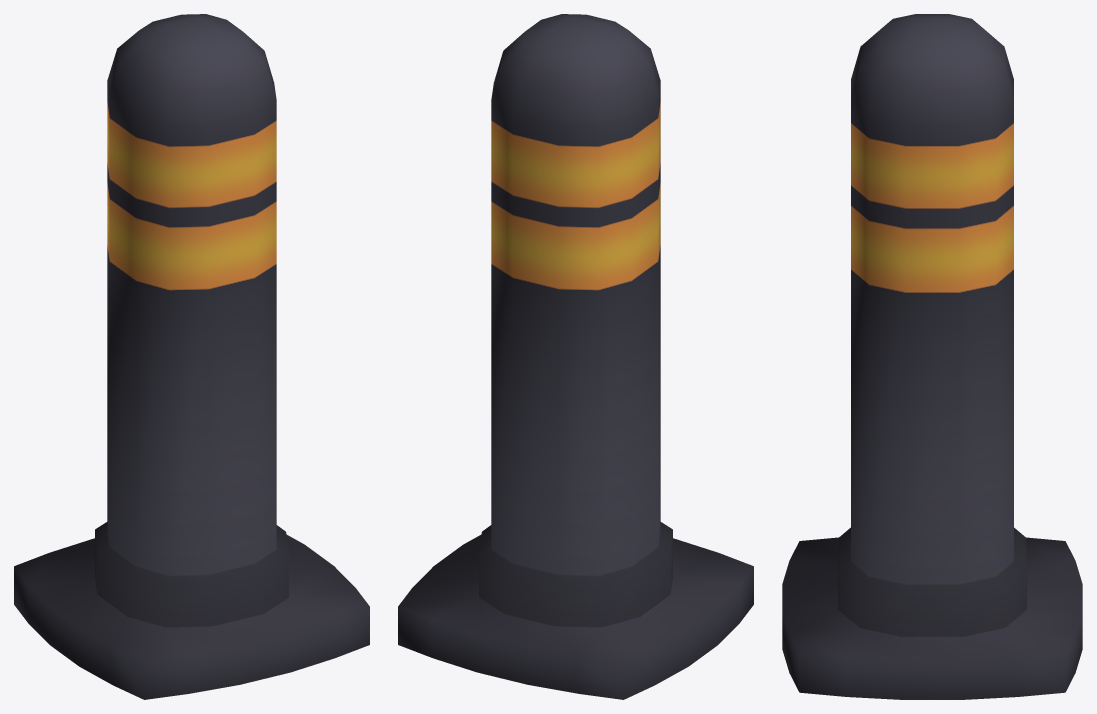
File: street pillar.fbx
3 renders of one model, left to right at view 1: azimuth 30°, elevation 25°; view 2: azimuth 150°, elevation 25°; view 3: azimuth 270°, elevation 25°, orthographic. The views are drawn at different scales.
Visible parts, largest first — view 1: street pillar; view 2: street pillar; view 3: street pillar.
Part boxes in pixels (x1,y1,x2,y2): street pillar: (14,14,369,699); street pillar: (398,14,753,699); street pillar: (782,14,1082,699).
Size of the model in its own units: 0.4947 by 1.11 by 0.4947.
1 material, 1 textured.
